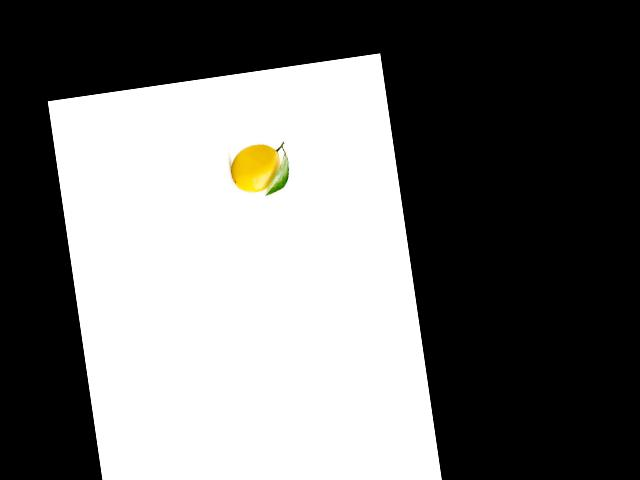lemon: (226, 138, 290, 198)
